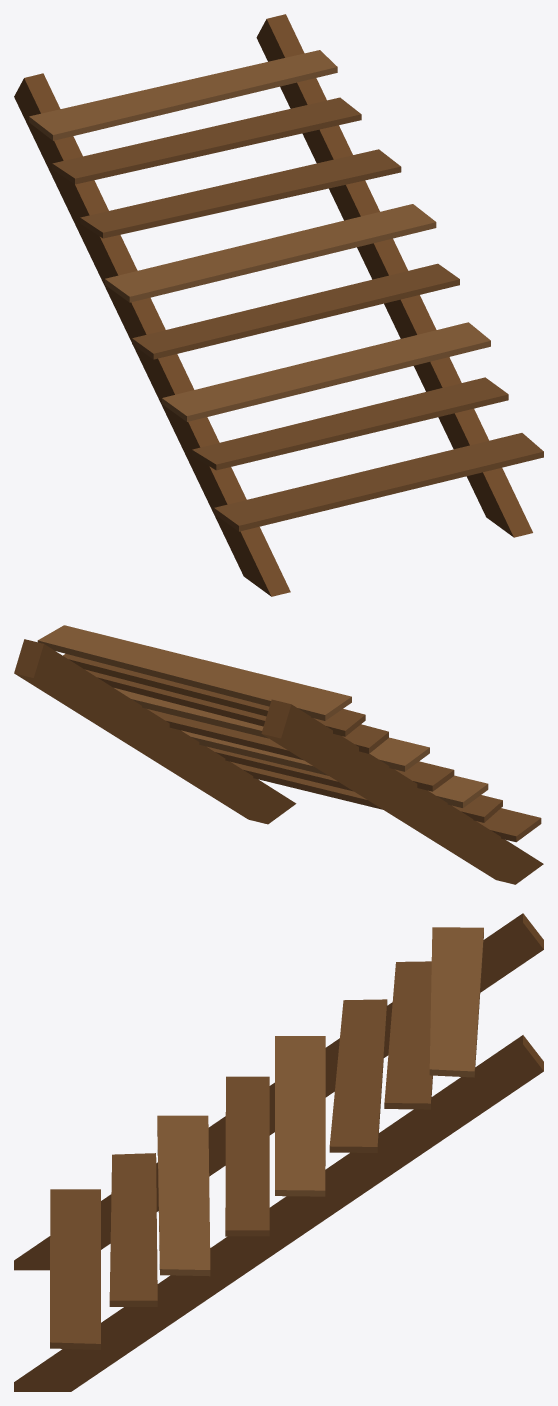
Rendered from HouseStairs_01.fbx.
3 views of the same model, one above another, from view 1: azimuth 30°, elevation 25°; view 2: azimuth 150°, elevation 25°; view 3: azimuth 270°, elevation 25° (orthographic). The views are drawn at different scales.
Parts seen in each view (by area): view 1: HouseStairs_01; view 2: HouseStairs_01; view 3: HouseStairs_01.
Boxes of the visible parts, x1,y1,x2,y2 form: HouseStairs_01: (14,14,543,596); HouseStairs_01: (14,625,543,884); HouseStairs_01: (14,913,543,1391).
Size of the model in its own units: 147 by 154 by 213.
